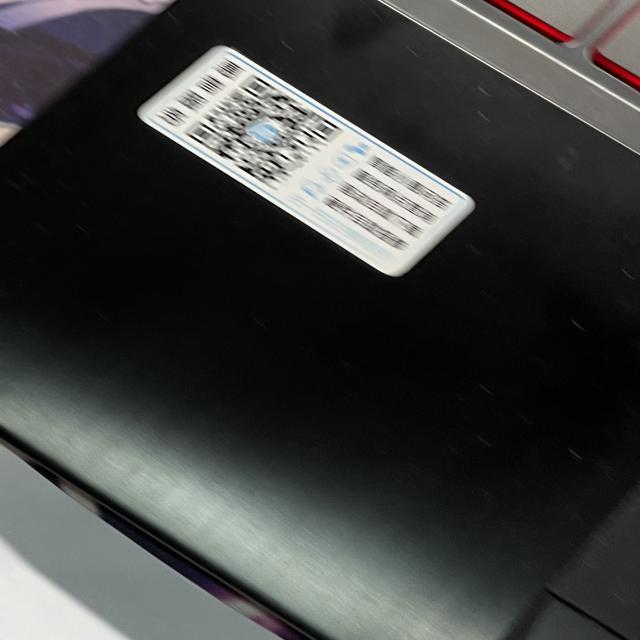qr_code: (186, 74, 342, 189)
